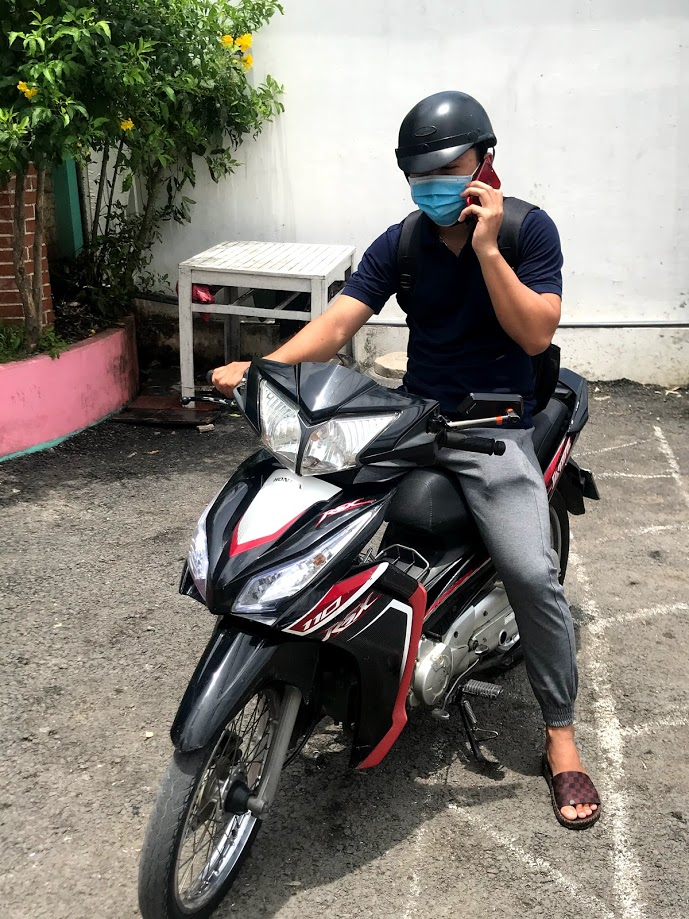dieu khien xe may: (193, 88, 561, 676)
su dung dien thoai: (395, 90, 507, 287)
